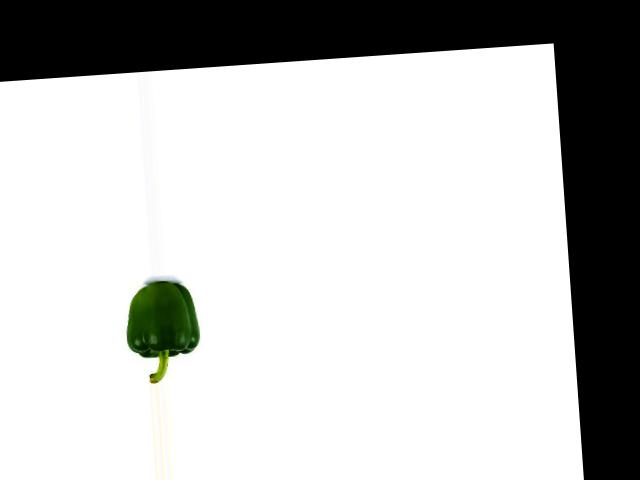bell_pepper: (122, 278, 214, 382)
